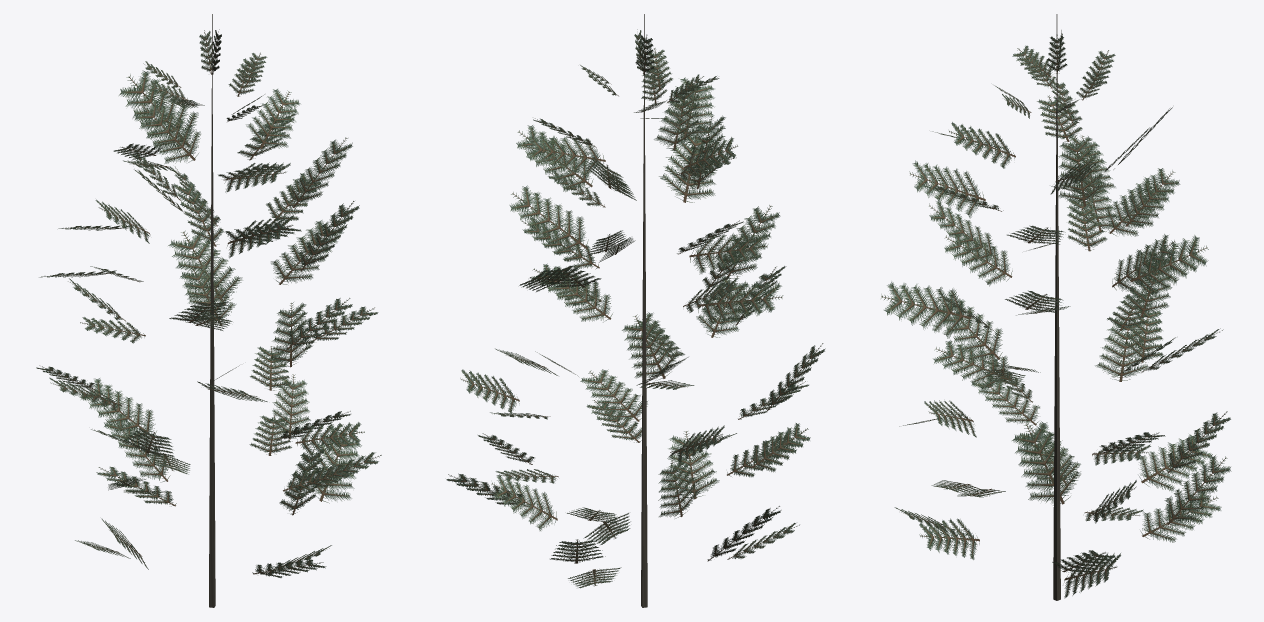
File: Sitka_Seedling_01_LOD2.fbx
3 views of the same model, side by side, from view 1: azimuth 30°, elevation 25°; view 2: azimuth 150°, elevation 25°; view 3: azimuth 270°, elevation 25° (orthographic).
Parts seen in each view (by area): view 1: Sitka_Seedling_01_LOD2_Foliage, Sitka_Seedling_01_LOD2_Stem; view 2: Sitka_Seedling_01_LOD2_Foliage, Sitka_Seedling_01_LOD2_Stem; view 3: Sitka_Seedling_01_LOD2_Foliage, Sitka_Seedling_01_LOD2_Stem.
Part boxes in pixels (<box>): Sitka_Seedling_01_LOD2_Foliage: <box>36,29,381,577</box>; Sitka_Seedling_01_LOD2_Stem: <box>209,14,215,607</box>; Sitka_Seedling_01_LOD2_Foliage: <box>446,29,825,588</box>; Sitka_Seedling_01_LOD2_Stem: <box>641,14,647,607</box>; Sitka_Seedling_01_LOD2_Foliage: <box>881,30,1231,598</box>; Sitka_Seedling_01_LOD2_Stem: <box>1053,14,1060,600</box>.
Bounding box in the file's own units: 63.9 × 100 × 58.92.
